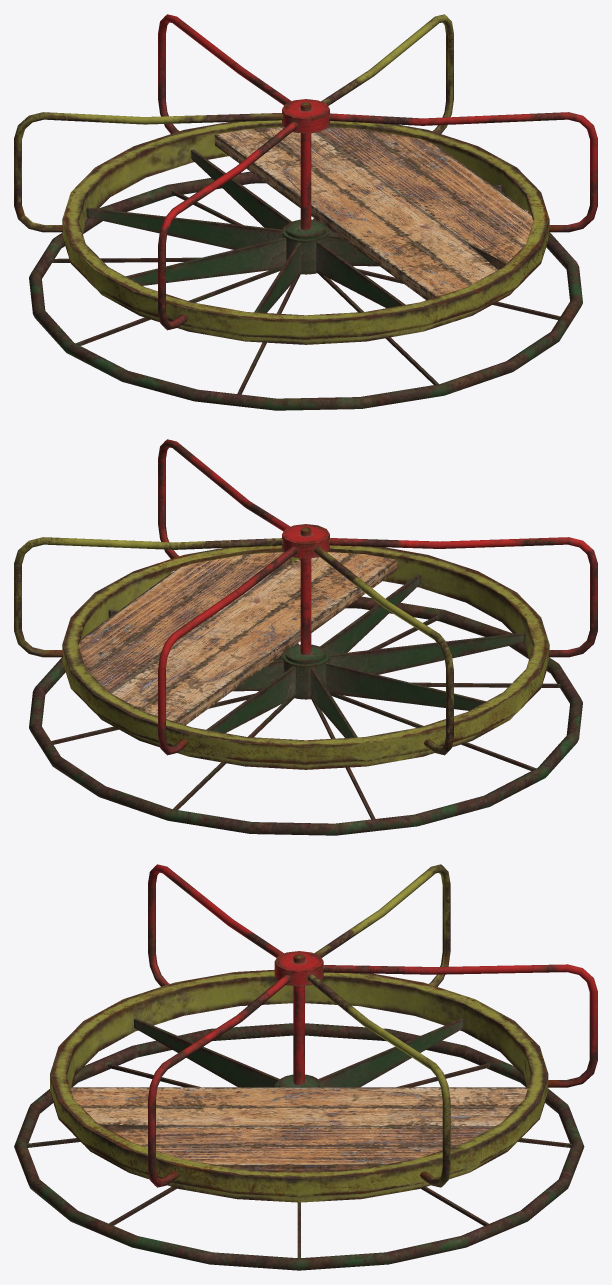
The picture shows the model from 3 angles, top to bottom: view 1: azimuth 30°, elevation 25°; view 2: azimuth 150°, elevation 25°; view 3: azimuth 270°, elevation 25°; orthographic projection. The views are drawn at different scales.
Parts seen in each view (by area): view 1: carousel_002, carousel_001; view 2: carousel_002, carousel_001; view 3: carousel_002, carousel_001.
Part boxes in pixels (x1=…): carousel_002: x1=14, y1=14, x2=597, y2=344; carousel_001: x1=29, y1=171, x2=582, y2=410; carousel_002: x1=14, y1=439, x2=597, y2=769; carousel_001: x1=29, y1=596, x2=582, y2=835; carousel_002: x1=50, y1=864, x2=597, y2=1202; carousel_001: x1=14, y1=1023, x2=584, y2=1270.
Size of the model in its own units: 2.05 by 0.7719 by 2.1.
1 material, 1 textured.
